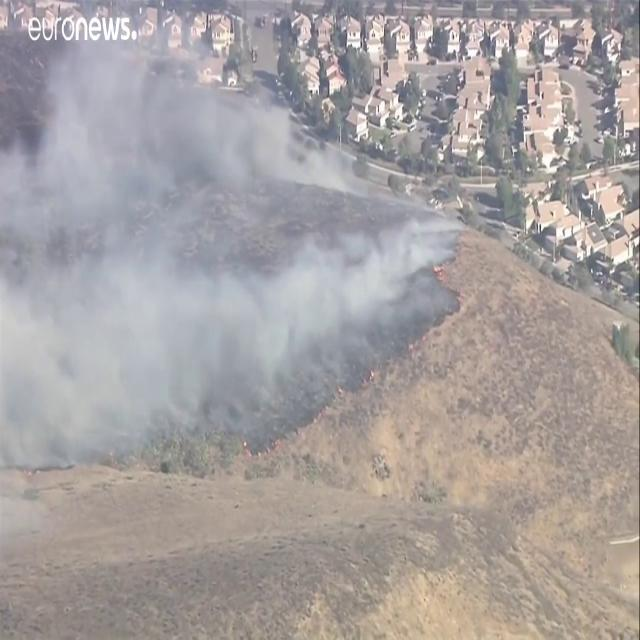Fire: (432, 262, 444, 280)
Smoke: (0, 294, 112, 455), (32, 96, 122, 200), (160, 92, 248, 188), (0, 114, 58, 248), (72, 336, 146, 430), (148, 186, 216, 280), (309, 234, 348, 376), (184, 306, 224, 429), (253, 103, 303, 180), (376, 287, 462, 328), (252, 310, 292, 393), (389, 245, 456, 283), (306, 148, 348, 198), (393, 212, 470, 235)
